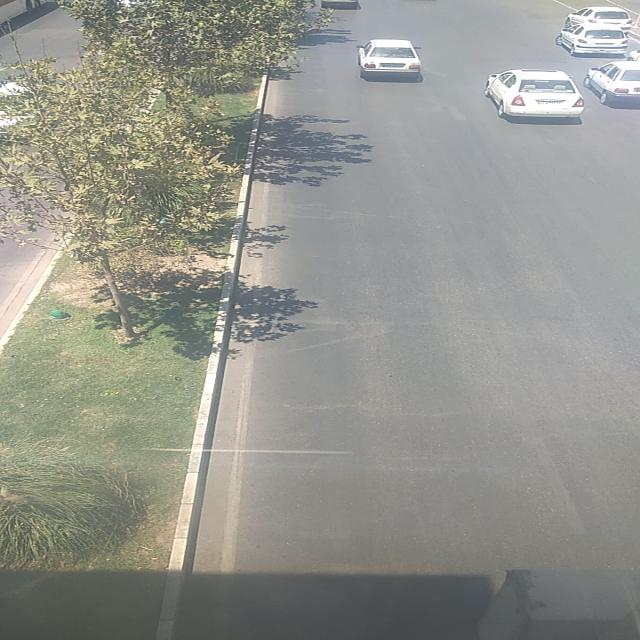car: (488, 69, 586, 123), (351, 38, 425, 78), (582, 60, 640, 106), (558, 23, 627, 55), (567, 6, 634, 29)
